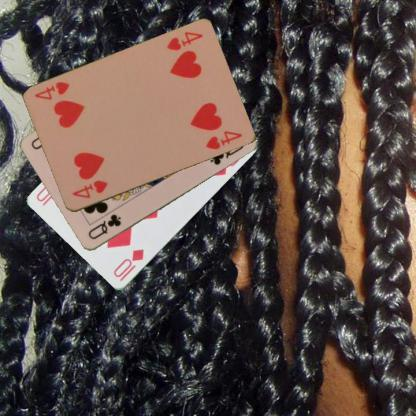10d: (111, 246, 145, 279)
4h: (70, 177, 110, 200), (164, 30, 204, 52)
Qc: (86, 212, 122, 242)
